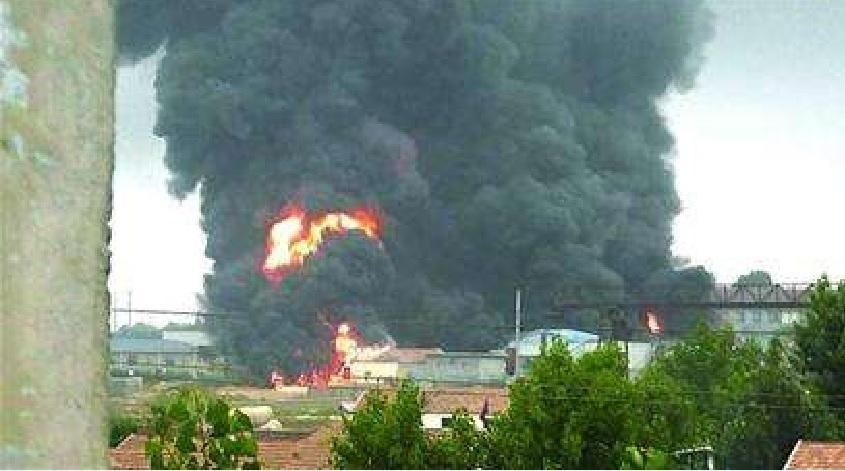fire: (262, 201, 376, 267), (640, 304, 663, 332)
